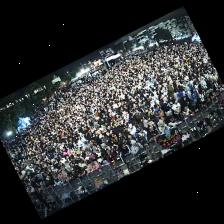person: (119, 144, 131, 168), (172, 100, 183, 120), (72, 165, 87, 178), (106, 150, 117, 167), (56, 169, 70, 182), (77, 151, 91, 163), (87, 159, 99, 173), (147, 126, 159, 140), (131, 140, 143, 154), (165, 116, 179, 128), (163, 98, 172, 115), (136, 134, 148, 146), (158, 120, 169, 133), (199, 84, 207, 101), (109, 139, 118, 154), (93, 130, 102, 145), (128, 124, 138, 137), (142, 101, 150, 117), (126, 134, 136, 146), (135, 109, 145, 121), (196, 98, 206, 110), (183, 107, 195, 117), (154, 113, 164, 125), (191, 88, 198, 105), (188, 100, 198, 111), (120, 126, 130, 137), (73, 153, 84, 163), (117, 133, 127, 144), (112, 122, 121, 134), (138, 127, 147, 139), (44, 179, 55, 188), (93, 146, 101, 158), (98, 158, 108, 167), (78, 159, 87, 169), (144, 120, 153, 130), (53, 176, 62, 186), (214, 86, 223, 95), (102, 143, 112, 151), (179, 87, 187, 97), (209, 89, 216, 100), (65, 160, 72, 171), (200, 77, 207, 88), (27, 185, 36, 193), (123, 111, 129, 123), (60, 163, 68, 172), (174, 88, 180, 99), (169, 84, 174, 97), (187, 87, 192, 99), (59, 155, 66, 163), (139, 117, 144, 127), (41, 182, 46, 192)
